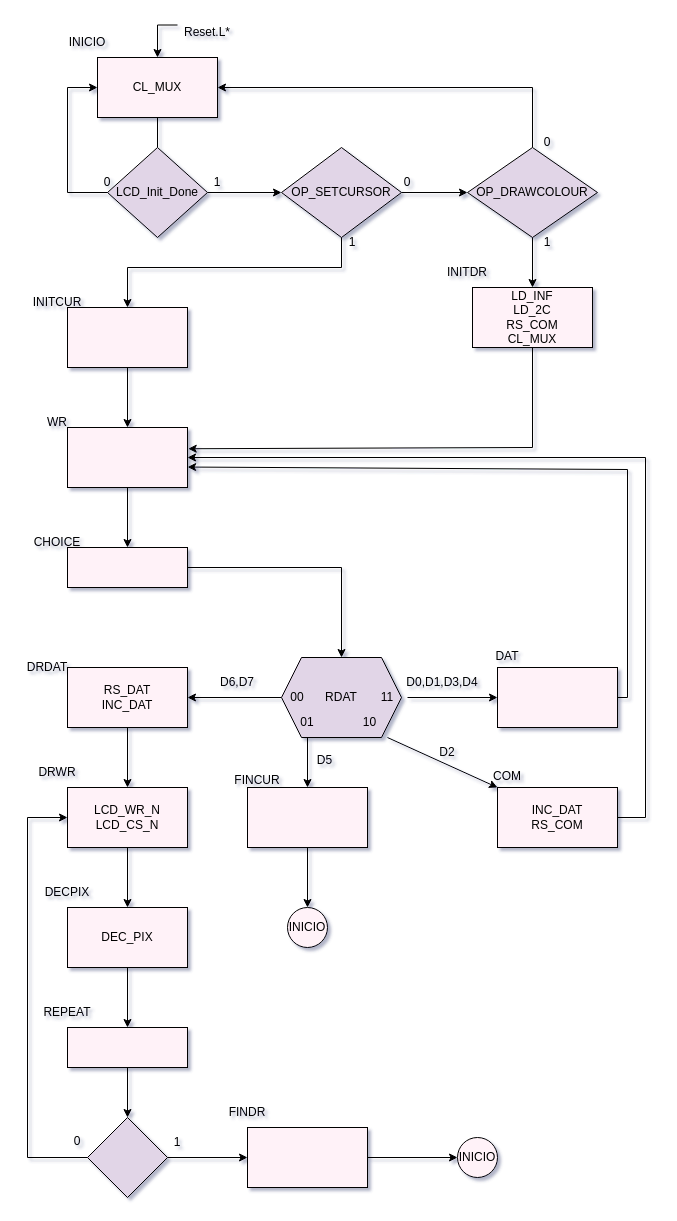
Some shapes in this 677 by 1221 pixel diagram are drawn without their labels. The centre of each missing label's shape, as x and y in pixels:
"CL_DAT LD_INF RS_COM CL_MUX" goes at pixel 127 337.
"DONE_COLOUR" goes at pixel 307 1157.
"DONE_CURSOR" goes at pixel 307 817.
"END_PIX" goes at pixel 127 1157.
"INC_DAT RS_DAT" goes at pixel 557 697.
"LCD_CS_N LCD_WR_N" goes at pixel 127 457.
